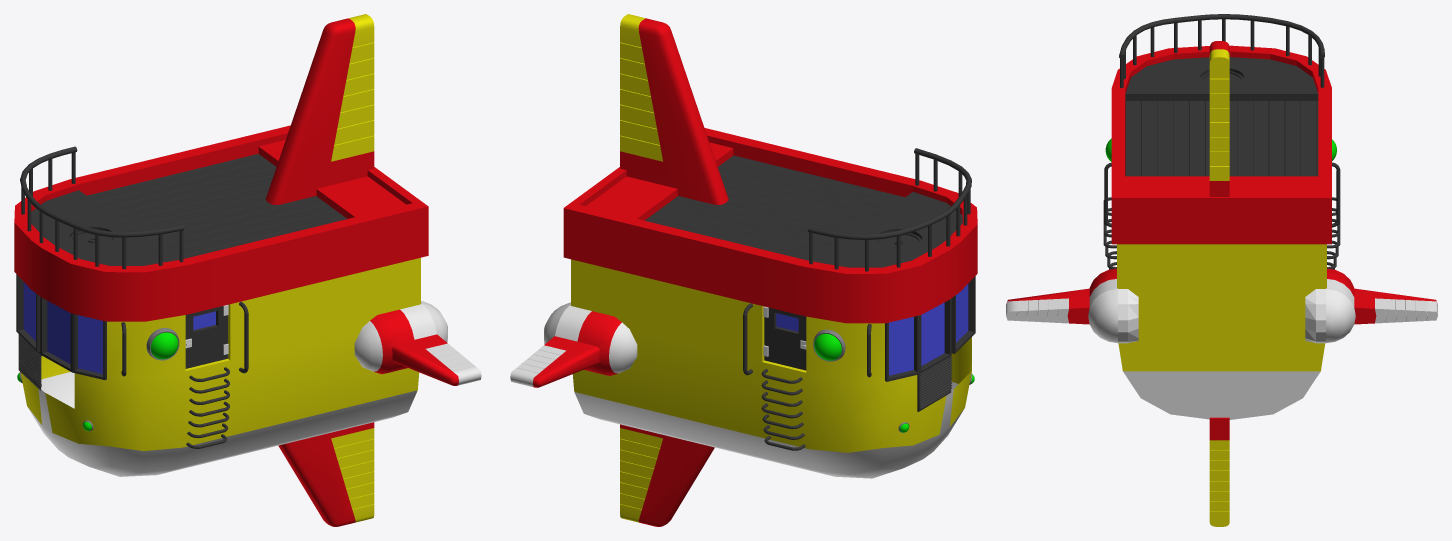
File: Flutter.glb
The picture shows the model from 3 angles, left to right: view 1: azimuth 30°, elevation 25°; view 2: azimuth 150°, elevation 25°; view 3: azimuth 270°, elevation 25°; orthographic projection. The views are drawn at different scales.
Visible parts, largest first — view 1: Box001, Object009, Object002, Box008, Object005, Object014, Object001, Arc001, Object011, Object004, Object003, Cylinder003 (+6 smaller); view 2: Box001, Object009, Object002, Box008, Object005, Object014, Object001, Object011, Object004, Arc001, Object003, Cylinder003 (+6 smaller); view 3: Box001, Object009, Object002, Object005, Object001, Cylinder003, Object014, Object012, Arc001, Object011, Box008, Cylinder012 (+1 smaller).
Part boxes in pixels (<box>): Box001: <box>20,257,420,450</box>; Object009: <box>14,125,428,321</box>; Object002: <box>87,153,346,260</box>; Box008: <box>265,18,374,526</box>; Object005: <box>28,372,417,476</box>; Object014: <box>331,14,374,522</box>; Object001: <box>31,190,174,265</box>; Arc001: <box>20,146,184,269</box>; Object011: <box>370,309,458,385</box>; Object004: <box>23,282,102,373</box>; Object003: <box>16,274,106,380</box>; Cylinder003: <box>354,300,447,371</box>; Box001: <box>571,259,971,452</box>; Object009: <box>563,128,977,323</box>; Object002: <box>645,155,904,262</box>; Box008: <box>620,18,728,526</box>; Object005: <box>574,381,963,478</box>; Object014: <box>620,14,662,522</box>; Object001: <box>817,192,962,267</box>; Object011: <box>533,311,621,387</box>; Object004: <box>889,284,968,375</box>; Arc001: <box>808,148,971,271</box>; Object003: <box>885,276,975,381</box>; Cylinder003: <box>544,302,637,373</box>; Box001: <box>1117,244,1326,371</box>; Object009: <box>1111,45,1331,244</box>; Object002: <box>1125,101,1318,176</box>; Object005: <box>1123,371,1320,419</box>; Object001: <box>1125,57,1318,100</box>; Cylinder003: <box>1088,279,1355,343</box>; Object014: <box>1209,49,1229,526</box>; Object012: <box>1006,298,1437,323</box>; Arc001: <box>1119,14,1324,88</box>; Object011: <box>1006,268,1437,324</box>; Box008: <box>1209,41,1229,440</box>; Cylinder012: <box>1103,197,1340,269</box>.
Size of the model in its own units: 24.23 by 32.92 by 27.44.
